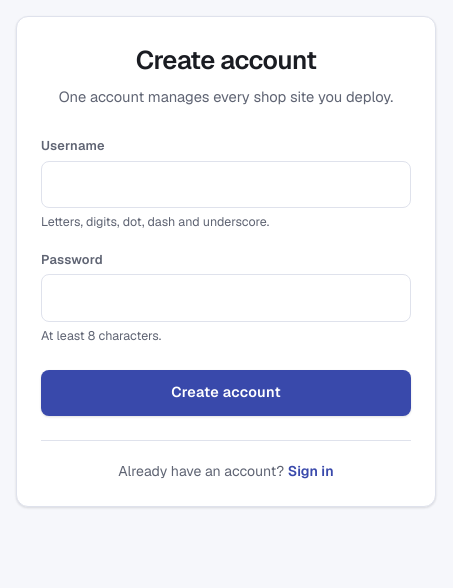
RegisterPage › catches a short password before asking the backend
Type "shop-owner" into the field labelled "Username".
click(226, 184); type("shop-owner")  # box [41,161,411,208]
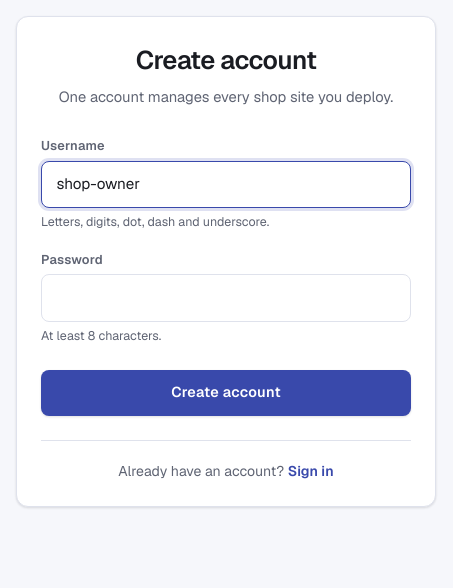
Type "short" into the password field labelled "Password".
click(226, 298); type("short")  # box [41,274,411,322]
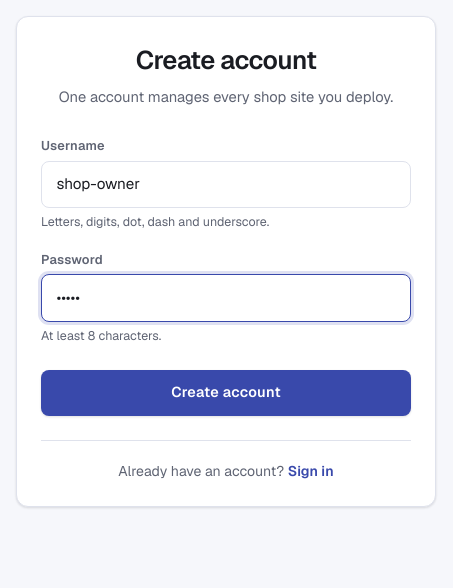
Click the button "Create account".
click(226, 393)  # box [41,370,411,416]
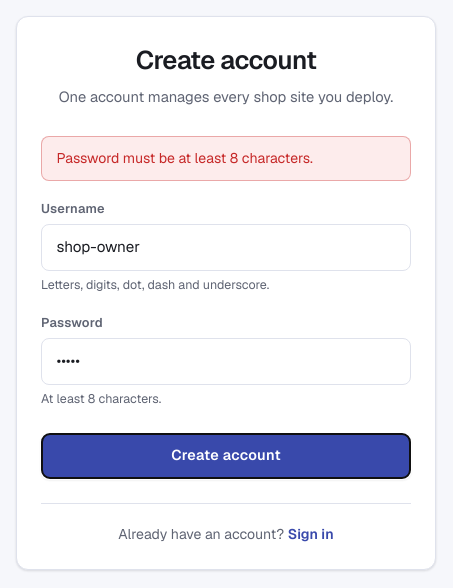
Expected: the message reads "Password must be at least 8 characters.", [56,149,313,167]
